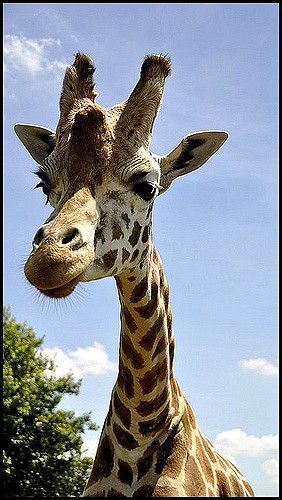giraffe: (27, 49, 245, 486)
